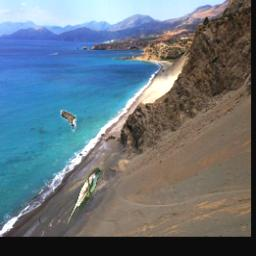Cuckoo: (67, 168, 103, 225)
Swallow: (61, 111, 77, 133)
